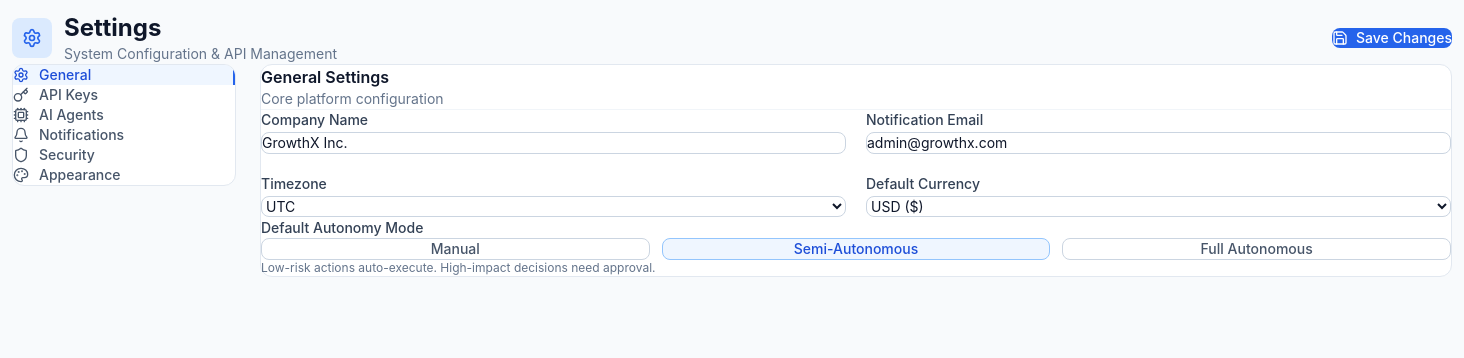
Test: Settings › switches to Notifications tab and renders channels
What coordinates should you click on to do the following:
click the button "Notifications"
I would click on:
 (124, 135)
Its box is [13,125,235,145].
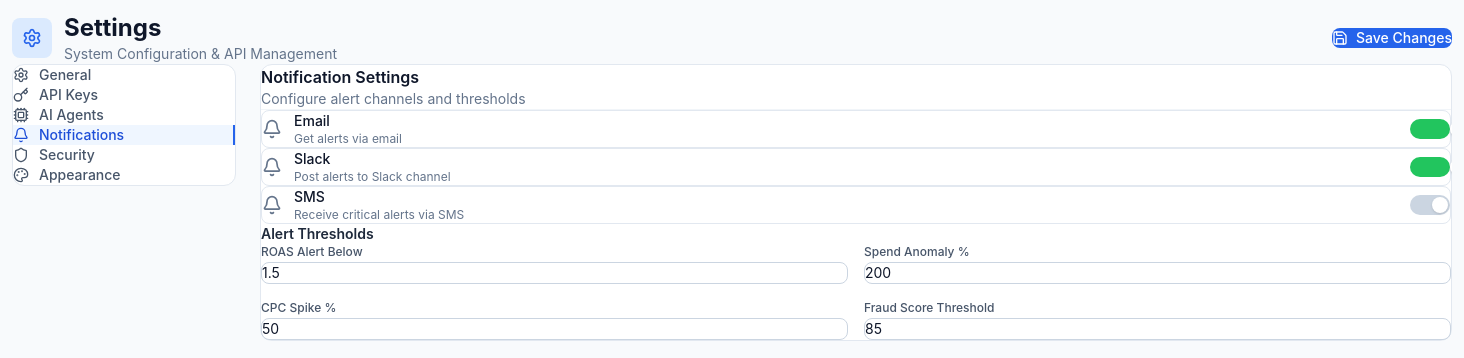
Expected: the heading "Notification Settings" is shown, [261,67,419,87]
Expected: the text "Email" is shown, [294,112,330,129]
Expected: the text "Slack" is shown, [294,150,330,167]
